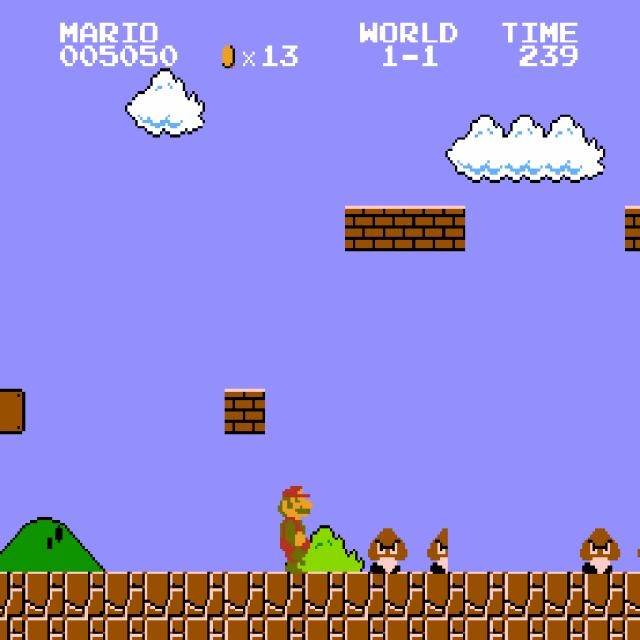big_mario: (273, 480, 315, 574)
brick_block: (225, 389, 265, 434), (345, 206, 385, 251), (385, 206, 425, 251), (425, 206, 465, 251), (625, 206, 640, 251)
empty_block: (0, 388, 25, 434)
goomba: (365, 526, 407, 574), (425, 526, 467, 574), (578, 526, 620, 574), (627, 526, 640, 574)
undestructible_block: (25, 572, 65, 617), (65, 572, 105, 617), (105, 572, 145, 617), (145, 572, 185, 617), (185, 572, 225, 617), (225, 572, 265, 617), (265, 572, 305, 617), (305, 572, 345, 617), (345, 572, 385, 617), (385, 572, 425, 617), (425, 572, 465, 617), (465, 572, 505, 617), (505, 572, 545, 617), (545, 572, 585, 617), (585, 572, 625, 617), (0, 571, 25, 617), (25, 617, 65, 640), (65, 617, 105, 640), (105, 617, 145, 640), (145, 617, 185, 640), (185, 617, 225, 640), (225, 617, 265, 640), (265, 617, 305, 640), (305, 617, 345, 640), (345, 617, 385, 640), (385, 617, 425, 640), (425, 617, 465, 640), (465, 617, 505, 640), (505, 617, 545, 640), (545, 617, 585, 640), (585, 617, 625, 640), (625, 572, 640, 617), (0, 617, 25, 639), (625, 617, 640, 640)
